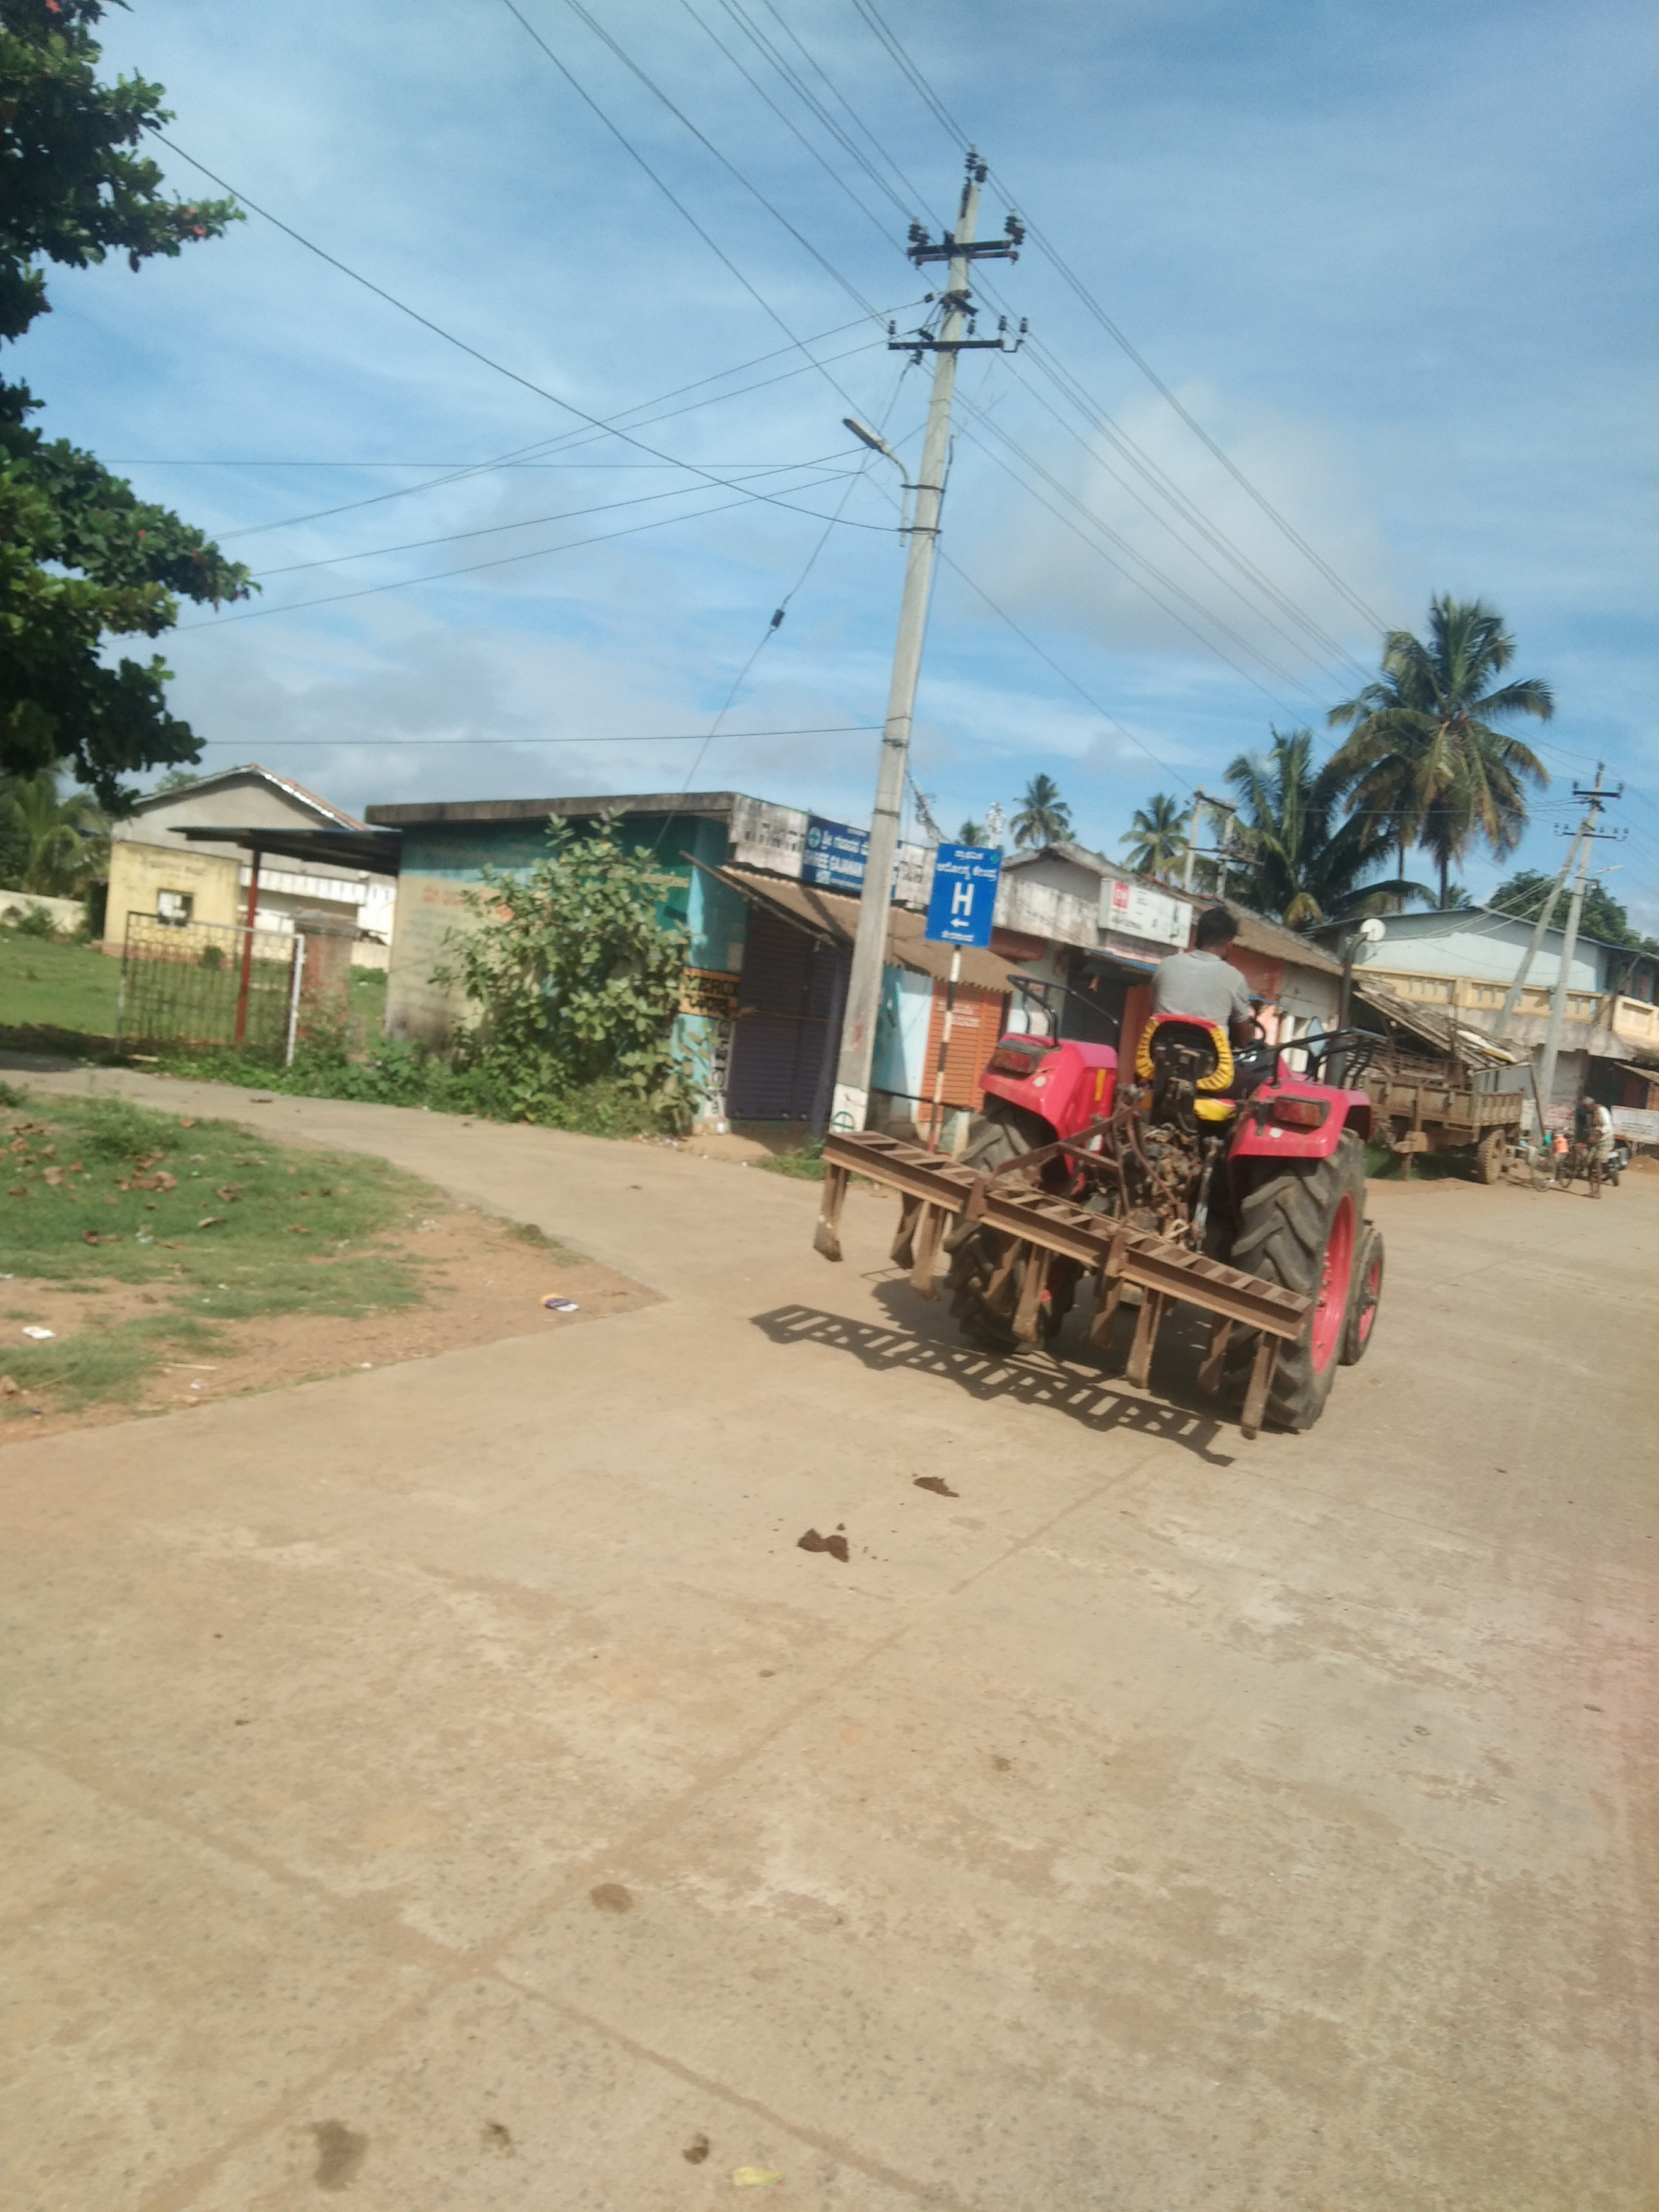tractor: (810, 928, 1387, 1446)
